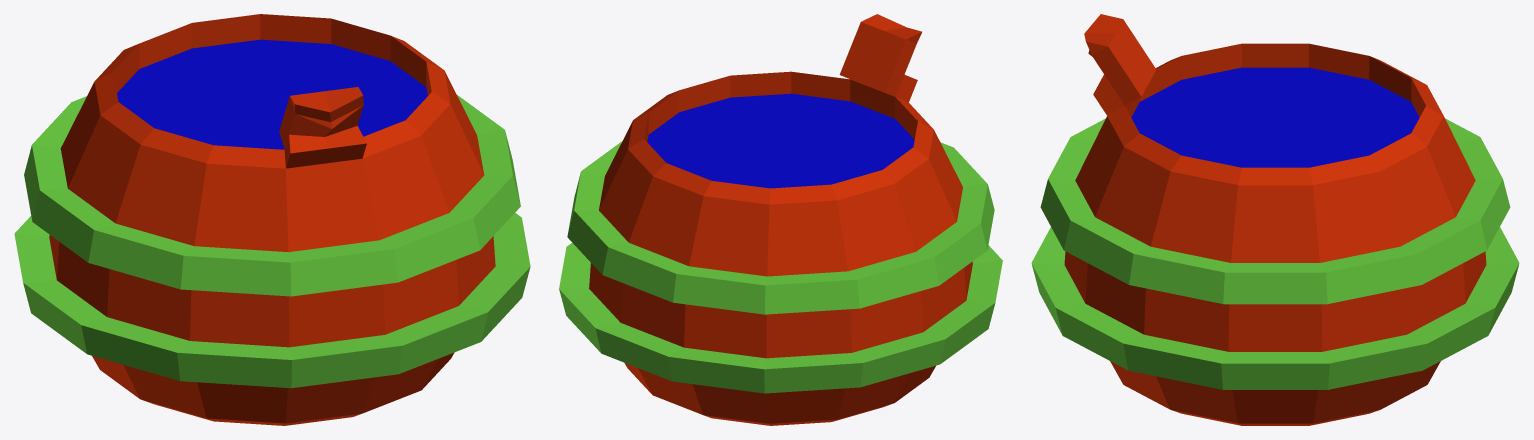
The model's file is barrel.obj.
The picture shows the model from 3 angles, left to right: view 1: azimuth 30°, elevation 25°; view 2: azimuth 150°, elevation 25°; view 3: azimuth 270°, elevation 25°; orthographic projection. The views are drawn at different scales.
Visible parts, largest first — view 1: Cylinder; view 2: Cylinder; view 3: Cylinder.
Boxes of the visible parts, bbox=[...] form: Cylinder: bbox=[14, 14, 530, 425]; Cylinder: bbox=[559, 14, 1002, 425]; Cylinder: bbox=[1031, 14, 1519, 425].
Bounding box in the file's own units: 3.21 × 2.36 × 3.29.
